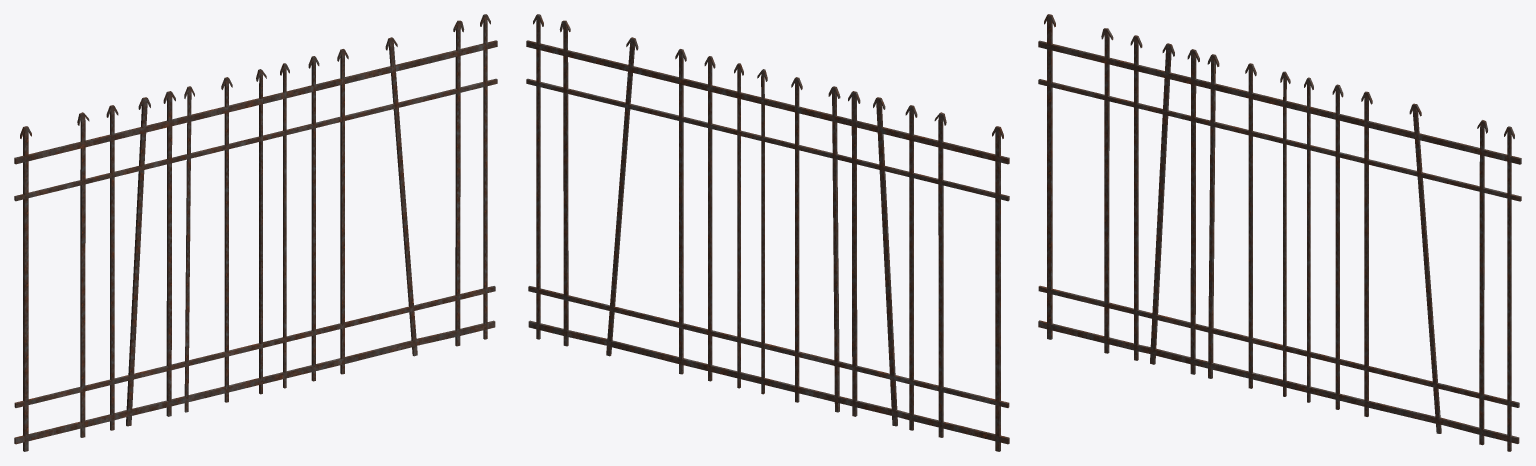
File: Grill Rusted.fbx
3 views of the same model, side by side, from view 1: azimuth 30°, elevation 25°; view 2: azimuth 150°, elevation 25°; view 3: azimuth 330°, elevation 25° (orthographic).
Visible parts, largest first — view 1: Old Fence; view 2: Old Fence; view 3: Old Fence.
Boxes of the visible parts, x1,y1,x2,y2 form: Old Fence: (14, 14, 497, 451); Old Fence: (526, 14, 1009, 451); Old Fence: (1038, 14, 1521, 451).
Size of the model in its own units: 636 by 409 by 3.45.
1 material, 1 textured.
